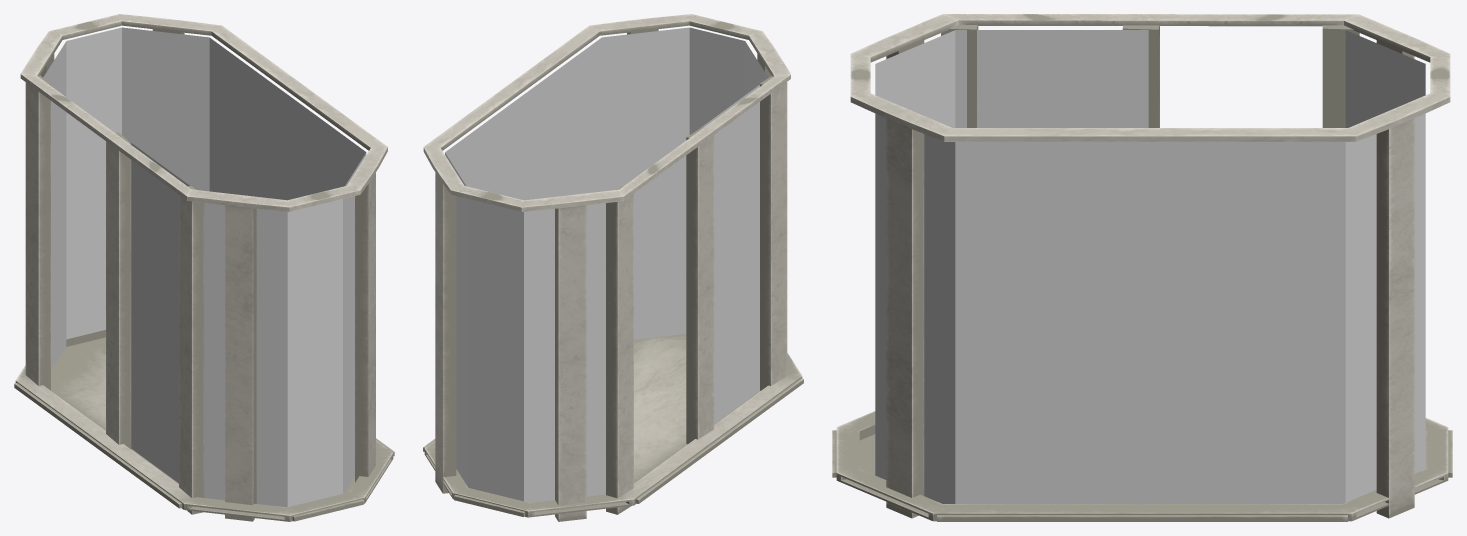
The model's file is SM_BathroomCabin.fbx.
The picture shows the model from 3 angles, left to right: view 1: azimuth 30°, elevation 25°; view 2: azimuth 150°, elevation 25°; view 3: azimuth 270°, elevation 25°; orthographic projection. The views are drawn at different scales.
Parts seen in each view (by area): view 1: SM_BathroomCabin_LOD0; view 2: SM_BathroomCabin_LOD0; view 3: SM_BathroomCabin_LOD0.
Part boxes in pixels (x1,y1,x2,y2): SM_BathroomCabin_LOD0: (14, 14, 394, 521); SM_BathroomCabin_LOD0: (423, 14, 803, 521); SM_BathroomCabin_LOD0: (832, 14, 1452, 521).
Size of the model in its own units: 209 by 296 by 420.
Materials: 2 (1 with a texture image).
